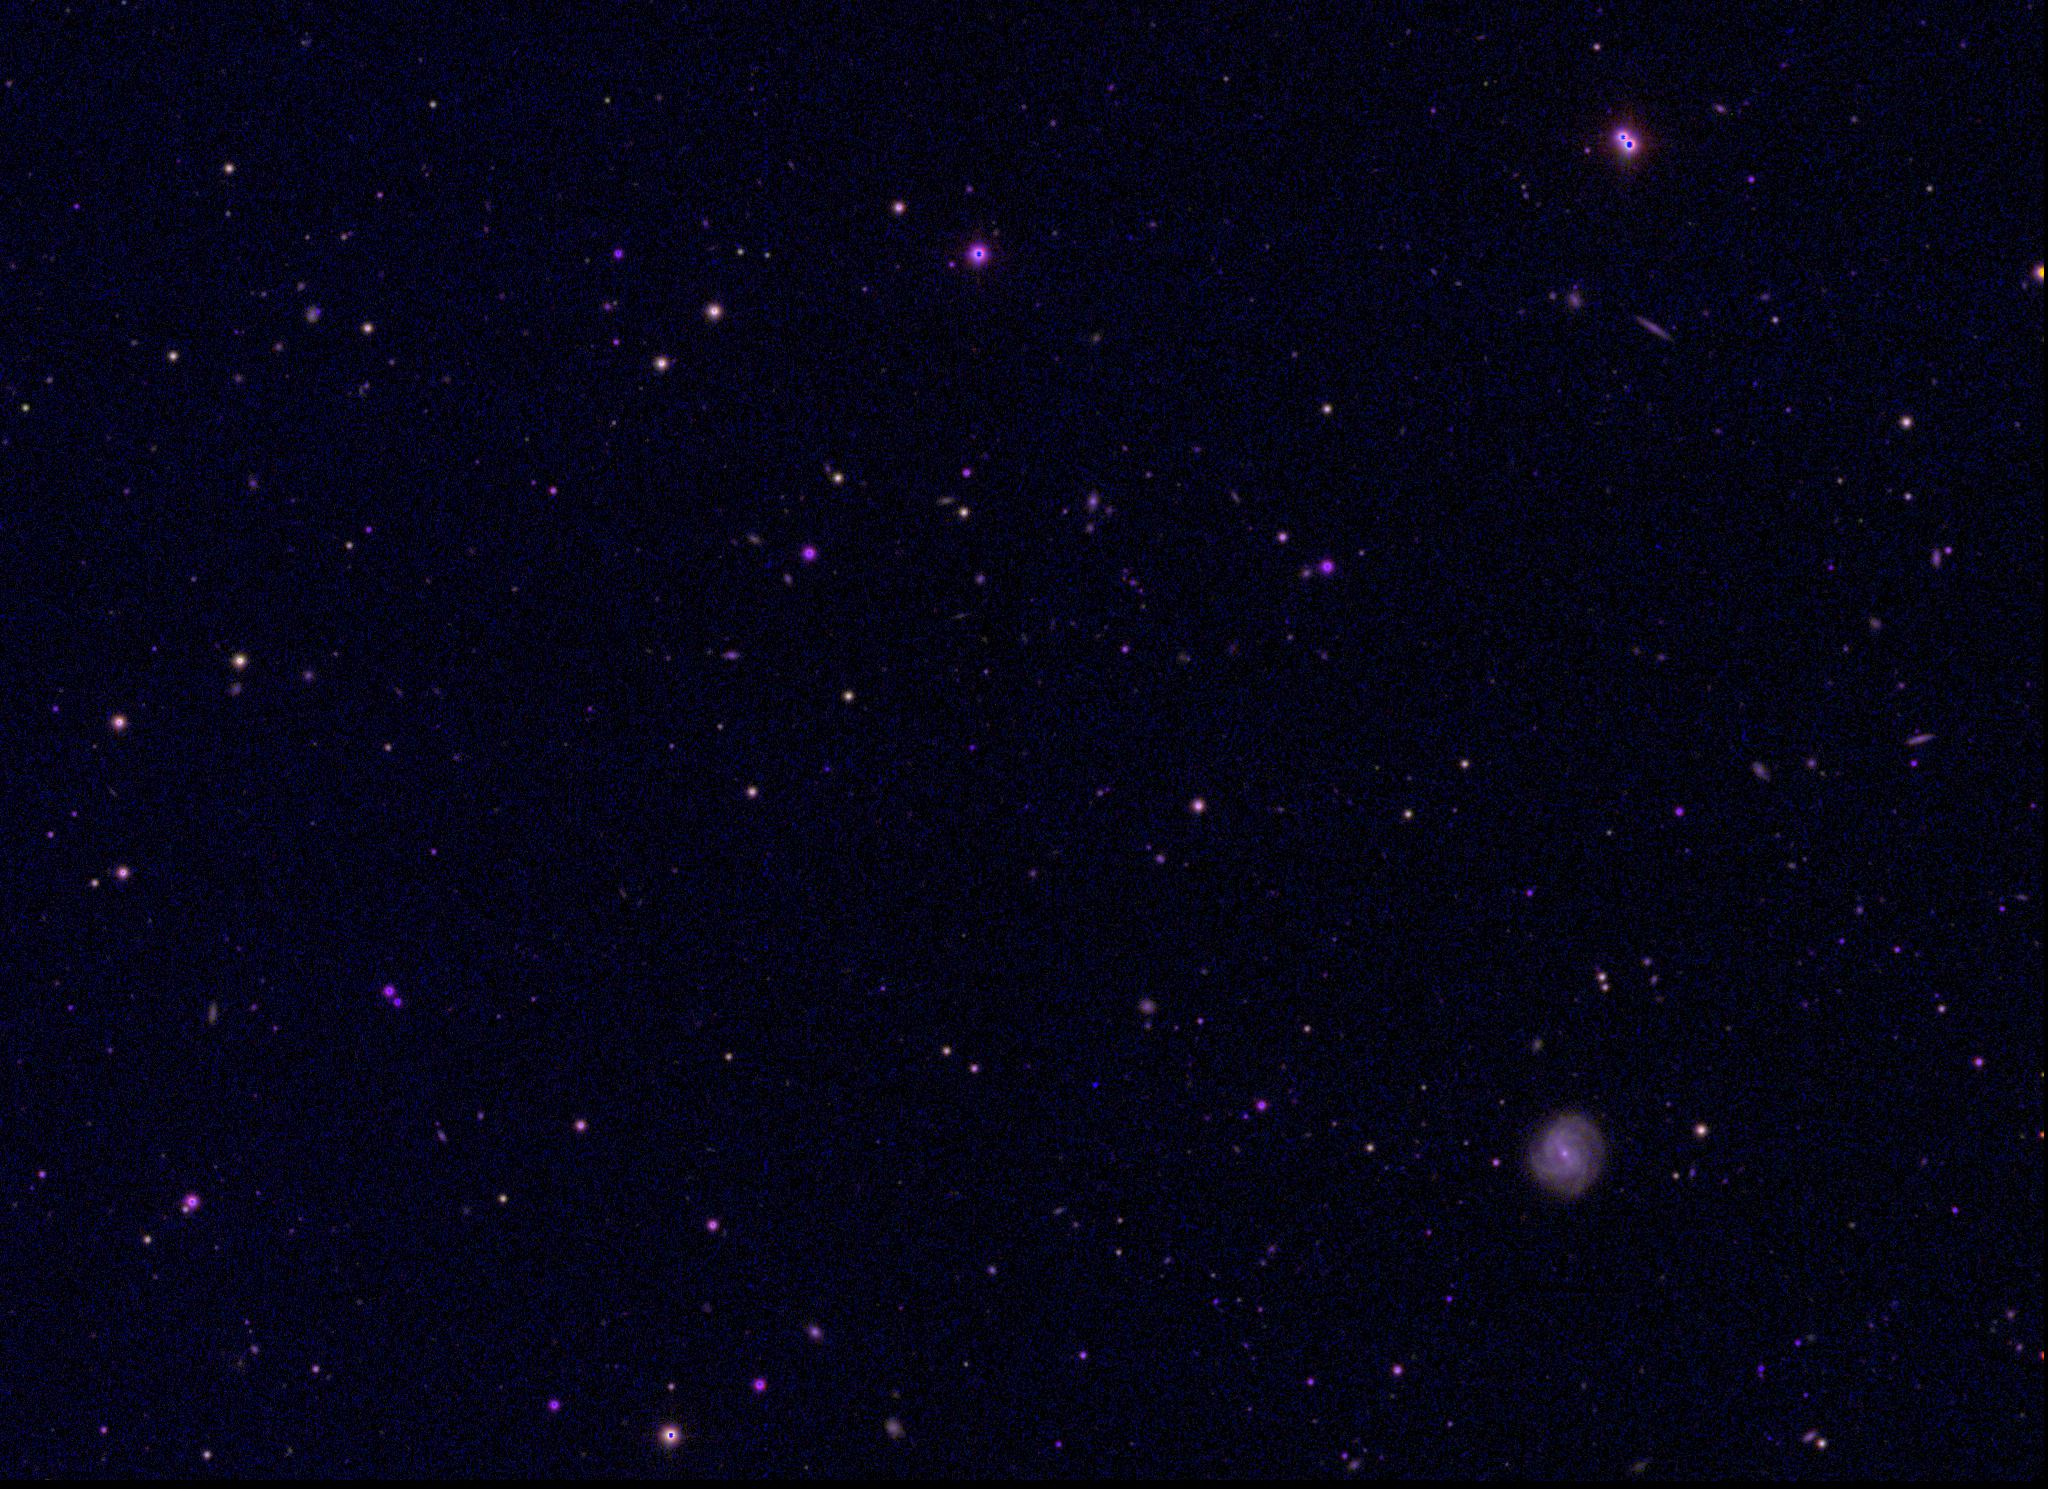L: (1088, 1079, 1102, 1091)
